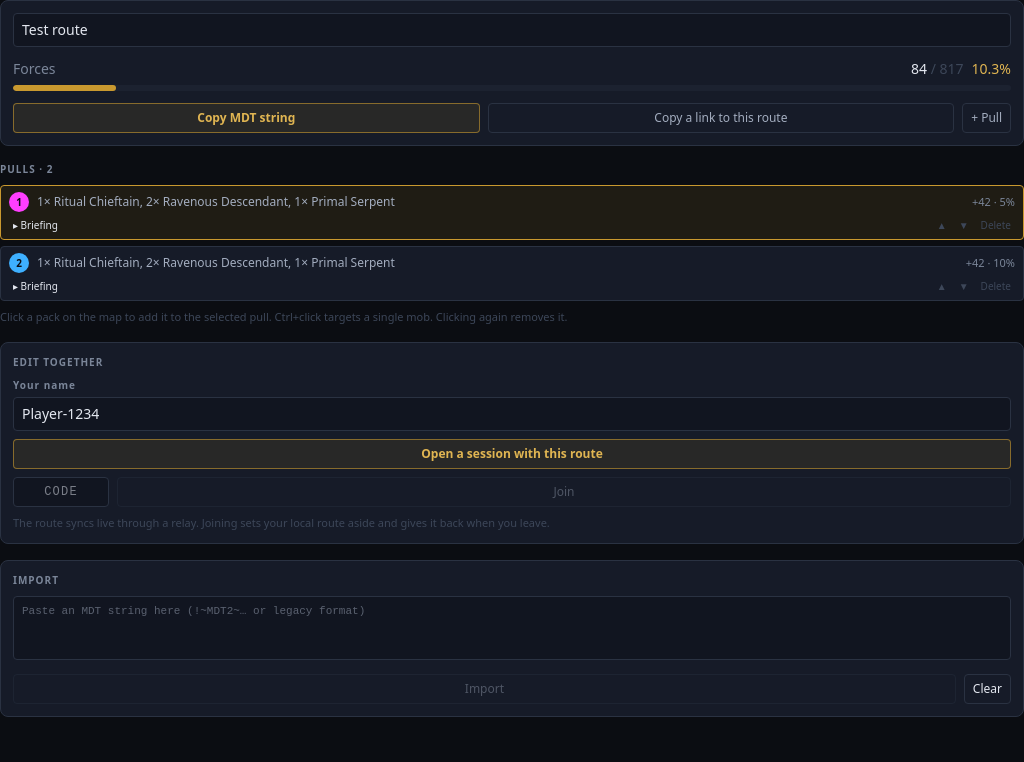
Scenario: Pull briefing › closes again
Click the 1st button "▸ Briefing" at (35, 226), box [9,218,62,233]
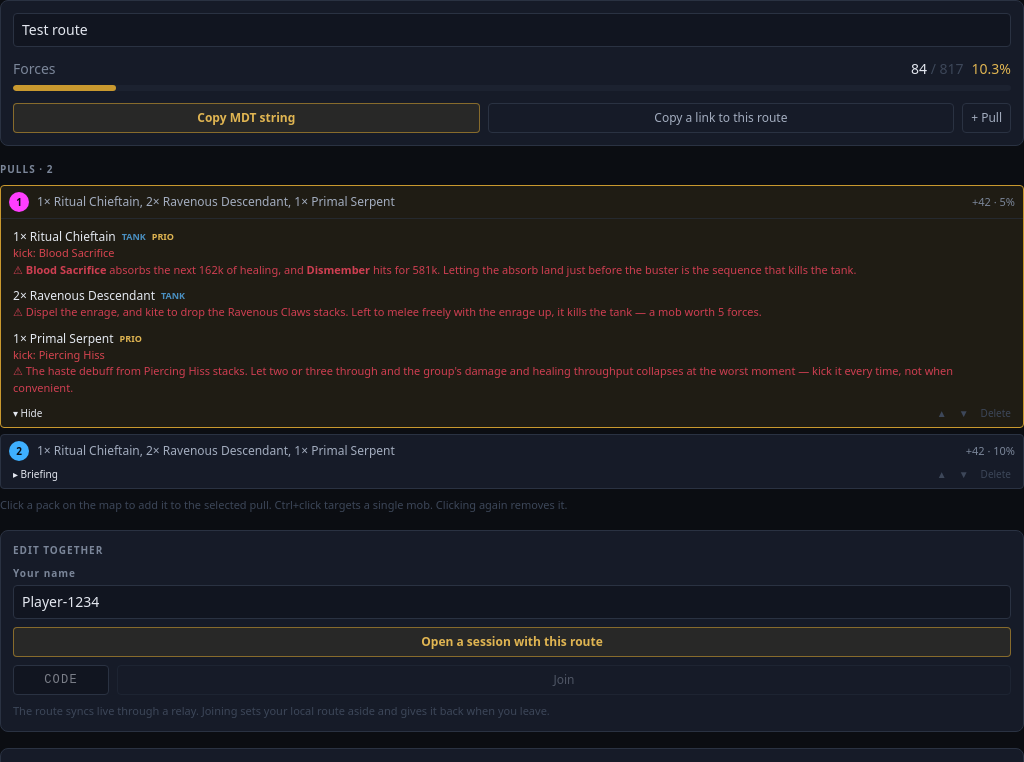
Click the button "▾ Hide" at (28, 414), box [9,406,46,421]
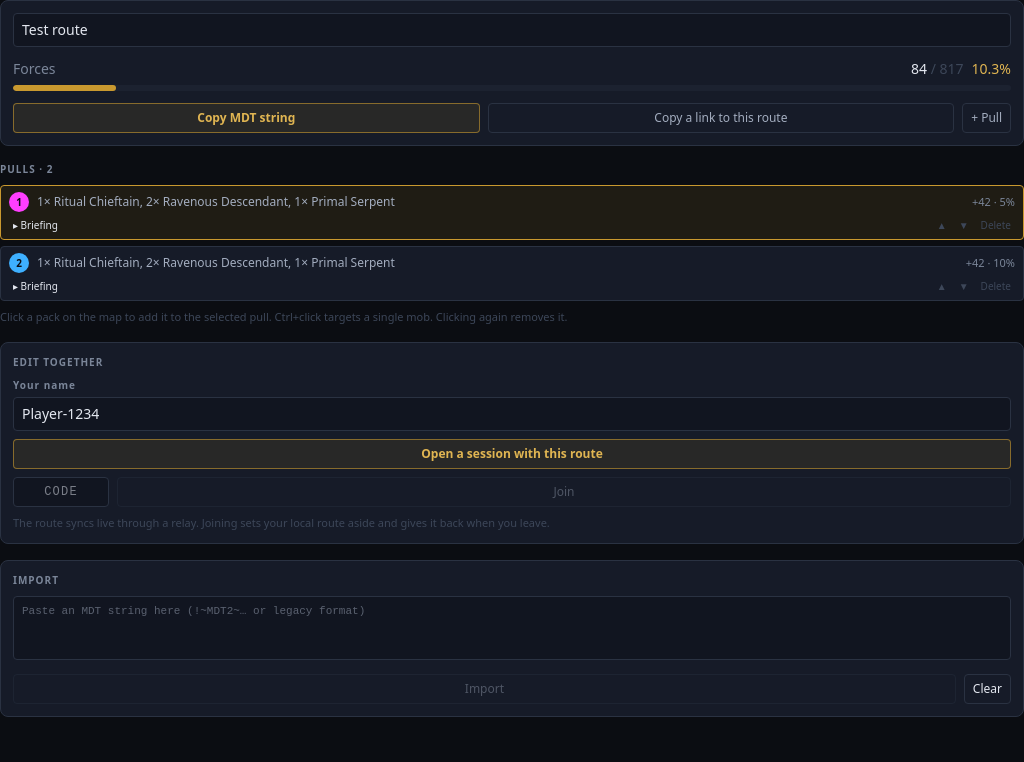
Result: the text "▾ Hide" is gone
